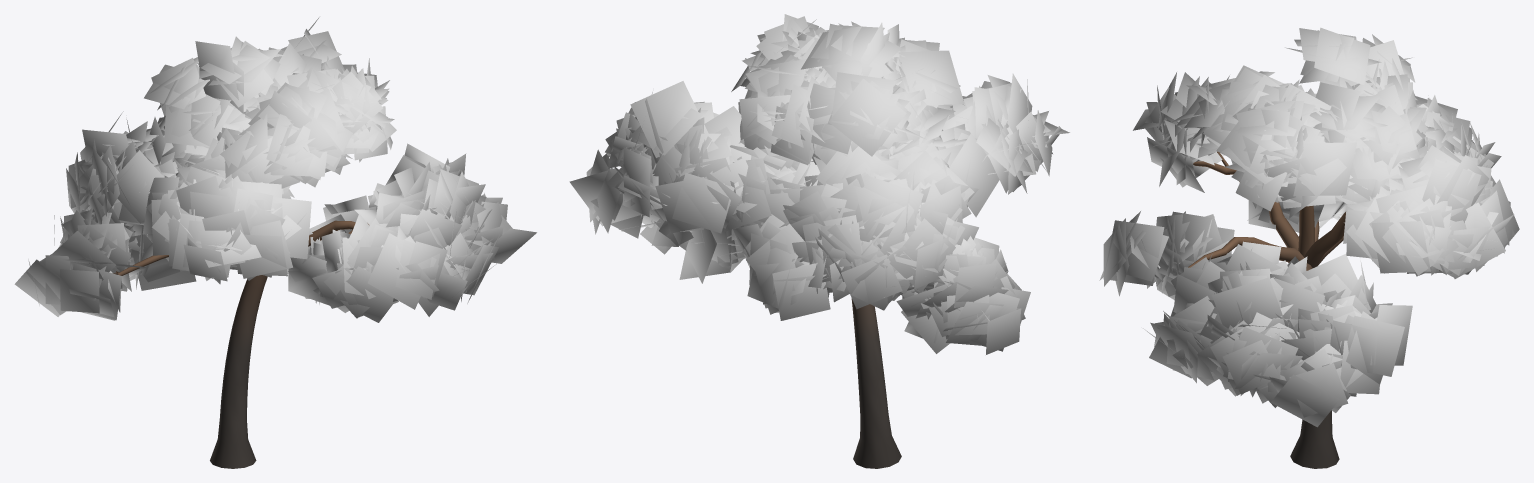
3 views of the same model, side by side, from view 1: azimuth 30°, elevation 25°; view 2: azimuth 150°, elevation 25°; view 3: azimuth 270°, elevation 25° (orthographic). The views are drawn at different scales.
Visible parts, largest first — view 1: crown, trunk; view 2: crown, trunk; view 3: crown, trunk.
Boxes of the visible parts, x1,y1,x2,y2 form: crown: (14,17,536,322); trunk: (113,220,369,468); crown: (569,14,1069,354); trunk: (851,298,901,468); crown: (1099,27,1519,427); trunk: (1188,151,1345,468).
Size of the model in its own units: 13.03 by 11.38 by 9.78.
